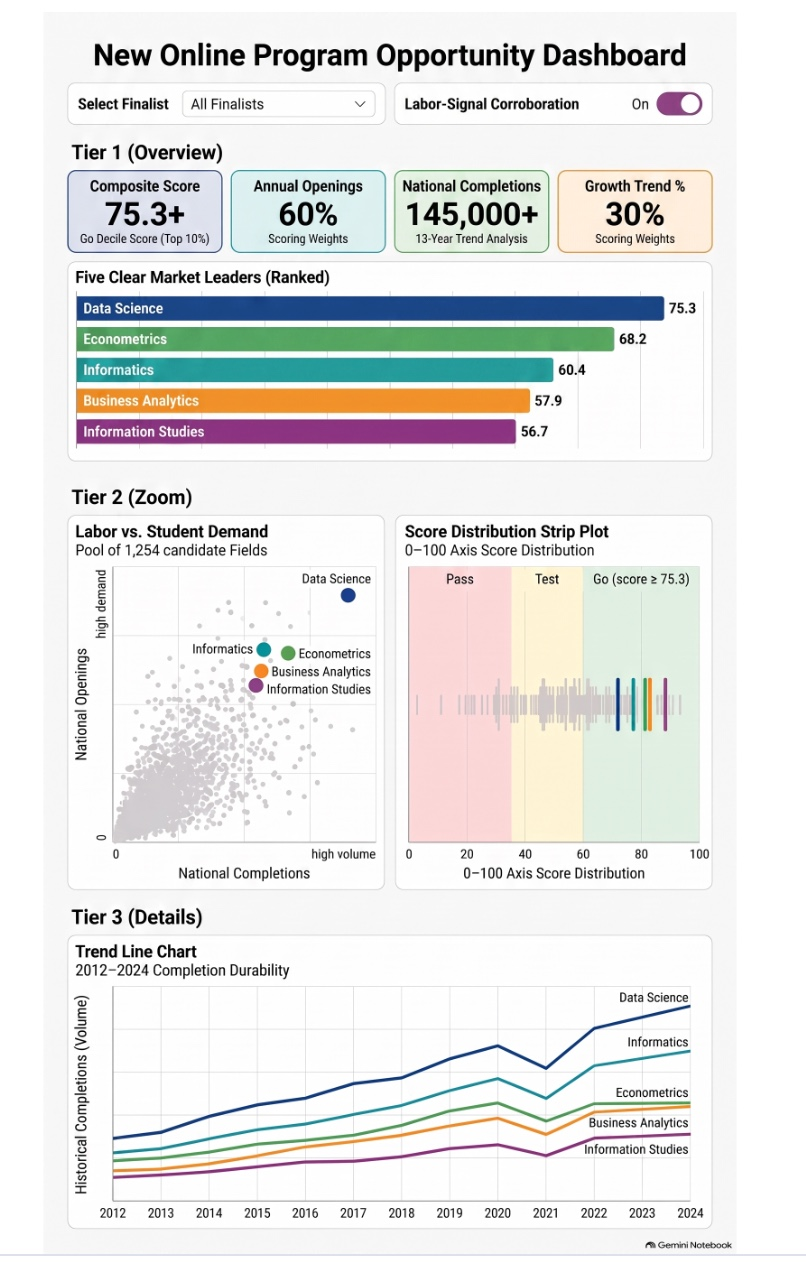

This screenshot's page, from the dashboard's own definition file:
{"tool":"tableau","page":{"name":"Program_Overview_Dashboard","canvas":[1366,840],"ordinal":0},"visuals":[{"type":"text","box":[0,0,669,114]},{"type":"worksheet","title":"KPI_Score","mark":"Automatic","box":[669,0,128,114]},{"type":"worksheet","title":"KPI_Openings","mark":"Automatic","box":[797,0,188,114]},{"type":"worksheet","title":"KPI_Completions","mark":"Automatic","box":[985,0,168,114]},{"type":"worksheet","title":"KPI_Growth","mark":"Automatic","box":[1153,0,207,114]},{"type":"parameter","param":"[Parameters].[Parameter 6527490844442624]","box":[0,114,1366,29]},{"type":"worksheet","title":"1_Composite_Score_Rank","mark":"Automatic","rows":["proposed_name"],"cols":["score"],"box":[209,143,556,198]},{"type":"worksheet","title":"5_Finalist_Comparision","mark":"Automatic","rows":["proposed_name"],"box":[765,143,600.9,198]},{"type":"legend","title":"4_Program_Completion_Trends","param":"[federated.1arn81v10ab6cw1bl6ht70n0zl4m].[none:proposed_name:nk]","box":[4,147,201,124]},{"type":"filter","title":"2_Scatter_Labor_Demand","param":"[federated.0xvmx9v1o8f5hx130js1214drq1i].[sum:employment_weighted_openings:qk]","box":[4,271,201,69]},{"type":"filter","title":"2_Scatter_Labor_Demand","param":"[federated.0xvmx9v1o8f5hx130js1214drq1i].[none:completions_latest_year:qk]","box":[4,340,201,69]},{"type":"worksheet","title":"2_Scatter_Labor_Demand","mark":"Automatic","rows":["employment_weighted_openings"],"cols":["completions_latest_year"],"box":[209,341,590,275]},{"type":"worksheet","title":"3_Score_Distribution","mark":"Circle","rows":["score"],"box":[799,341,567,275]},{"type":"filter","title":"2_Scatter_Labor_Demand","param":"[federated.0xvmx9v1o8f5hx130js1214drq1i].[none:band:nk]","box":[4,409,201,52]},{"type":"filter","title":"4_Program_Completion_Trends","param":"[federated.1arn81v10ab6cw1bl6ht70n0zl4m].[none:year:ok]","box":[4,461,201,33]},{"type":"text","box":[4,494,201,290]},{"type":"worksheet","title":"4_Program_Completion_Trends","mark":"Automatic","rows":["completions"],"cols":["year"],"box":[209,616,1157,224]}]}

Visuals, with their boxes on the page's 1366x840 design canvas (x1, y1, x2, y2). These are canvas units, not pixel positions in the 806x1286 screenshot, which may show the page scaled, cropped or inside an application window:
text: [x1=0, y1=0, x2=669, y2=114]
"KPI_Score" worksheet: [x1=669, y1=0, x2=797, y2=114]
"KPI_Openings" worksheet: [x1=797, y1=0, x2=985, y2=114]
"KPI_Completions" worksheet: [x1=985, y1=0, x2=1153, y2=114]
"KPI_Growth" worksheet: [x1=1153, y1=0, x2=1360, y2=114]
parameter: [x1=0, y1=114, x2=1366, y2=143]
"1_Composite_Score_Rank" worksheet: [x1=209, y1=143, x2=765, y2=341]
"5_Finalist_Comparision" worksheet: [x1=765, y1=143, x2=1366, y2=341]
"4_Program_Completion_Trends" legend: [x1=4, y1=147, x2=205, y2=271]
"2_Scatter_Labor_Demand" filter: [x1=4, y1=271, x2=205, y2=340]
"2_Scatter_Labor_Demand" filter: [x1=4, y1=340, x2=205, y2=409]
"2_Scatter_Labor_Demand" worksheet: [x1=209, y1=341, x2=799, y2=616]
"3_Score_Distribution" worksheet (Circle marks): [x1=799, y1=341, x2=1366, y2=616]
"2_Scatter_Labor_Demand" filter: [x1=4, y1=409, x2=205, y2=461]
"4_Program_Completion_Trends" filter: [x1=4, y1=461, x2=205, y2=494]
text: [x1=4, y1=494, x2=205, y2=784]
"4_Program_Completion_Trends" worksheet: [x1=209, y1=616, x2=1366, y2=840]
